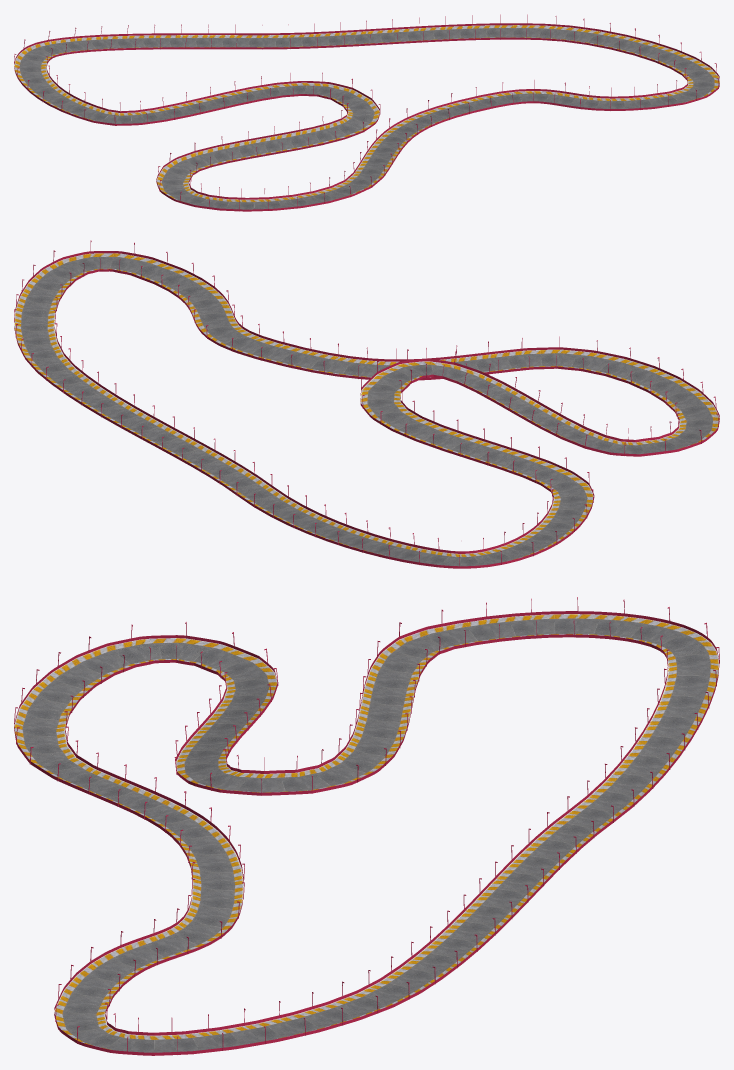
File: track04.fbx
3 views of the same model, one above another, from view 1: azimuth 30°, elevation 25°; view 2: azimuth 150°, elevation 25°; view 3: azimuth 270°, elevation 25° (orthographic). The views are drawn at different scales.
Parts seen in each view (by area): view 1: road4, barrier1, barrier2, gravel2, gravel1; view 2: road4, gravel1, gravel2, barrier1, barrier2; view 3: road4, gravel1, gravel2, barrier1, barrier2.
Boxes of the visible parts, left/top/right/bottom form: road4: left=20, top=28, right=713, bottom=209; barrier1: left=14, top=14, right=719, bottom=211; barrier2: left=46, top=28, right=688, bottom=199; gravel2: left=40, top=37, right=693, bottom=202; gravel1: left=14, top=25, right=719, bottom=205; road4: left=21, top=257, right=712, bottom=566; gravel1: left=14, top=253, right=719, bottom=563; gravel2: left=47, top=268, right=687, bottom=556; barrier1: left=14, top=240, right=719, bottom=568; barrier2: left=53, top=258, right=679, bottom=553; road4: left=23, top=619, right=709, bottom=1052; gravel1: left=14, top=614, right=718, bottom=1052; gravel2: left=55, top=633, right=677, bottom=1039; barrier1: left=14, top=597, right=719, bottom=1055; barrier2: left=64, top=620, right=669, bottom=1035.
Bounding box in the file's own units: 18202 × 907 × 12841.
